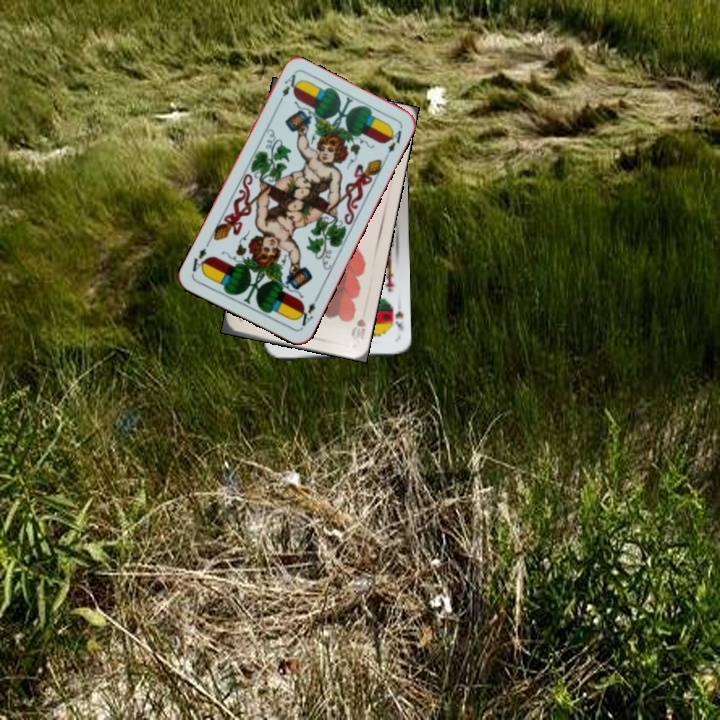EA: (293, 292, 321, 330), (274, 70, 298, 108)
H10: (347, 315, 369, 342)
SK: (386, 302, 406, 332)
